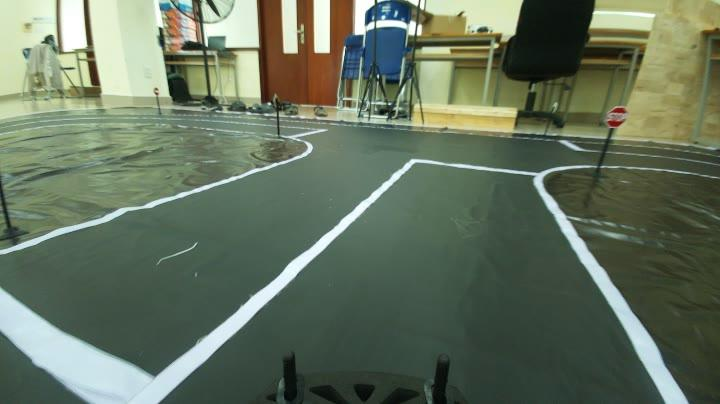stop: (601, 102, 630, 134)
